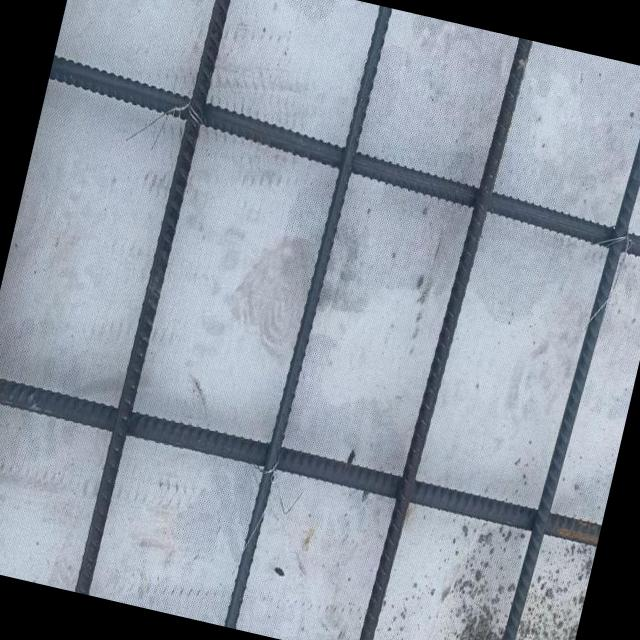ribbed bar: (38, 55, 640, 265), (352, 34, 534, 640), (222, 4, 392, 632), (0, 373, 603, 548), (72, 0, 235, 595), (489, 65, 640, 640)
